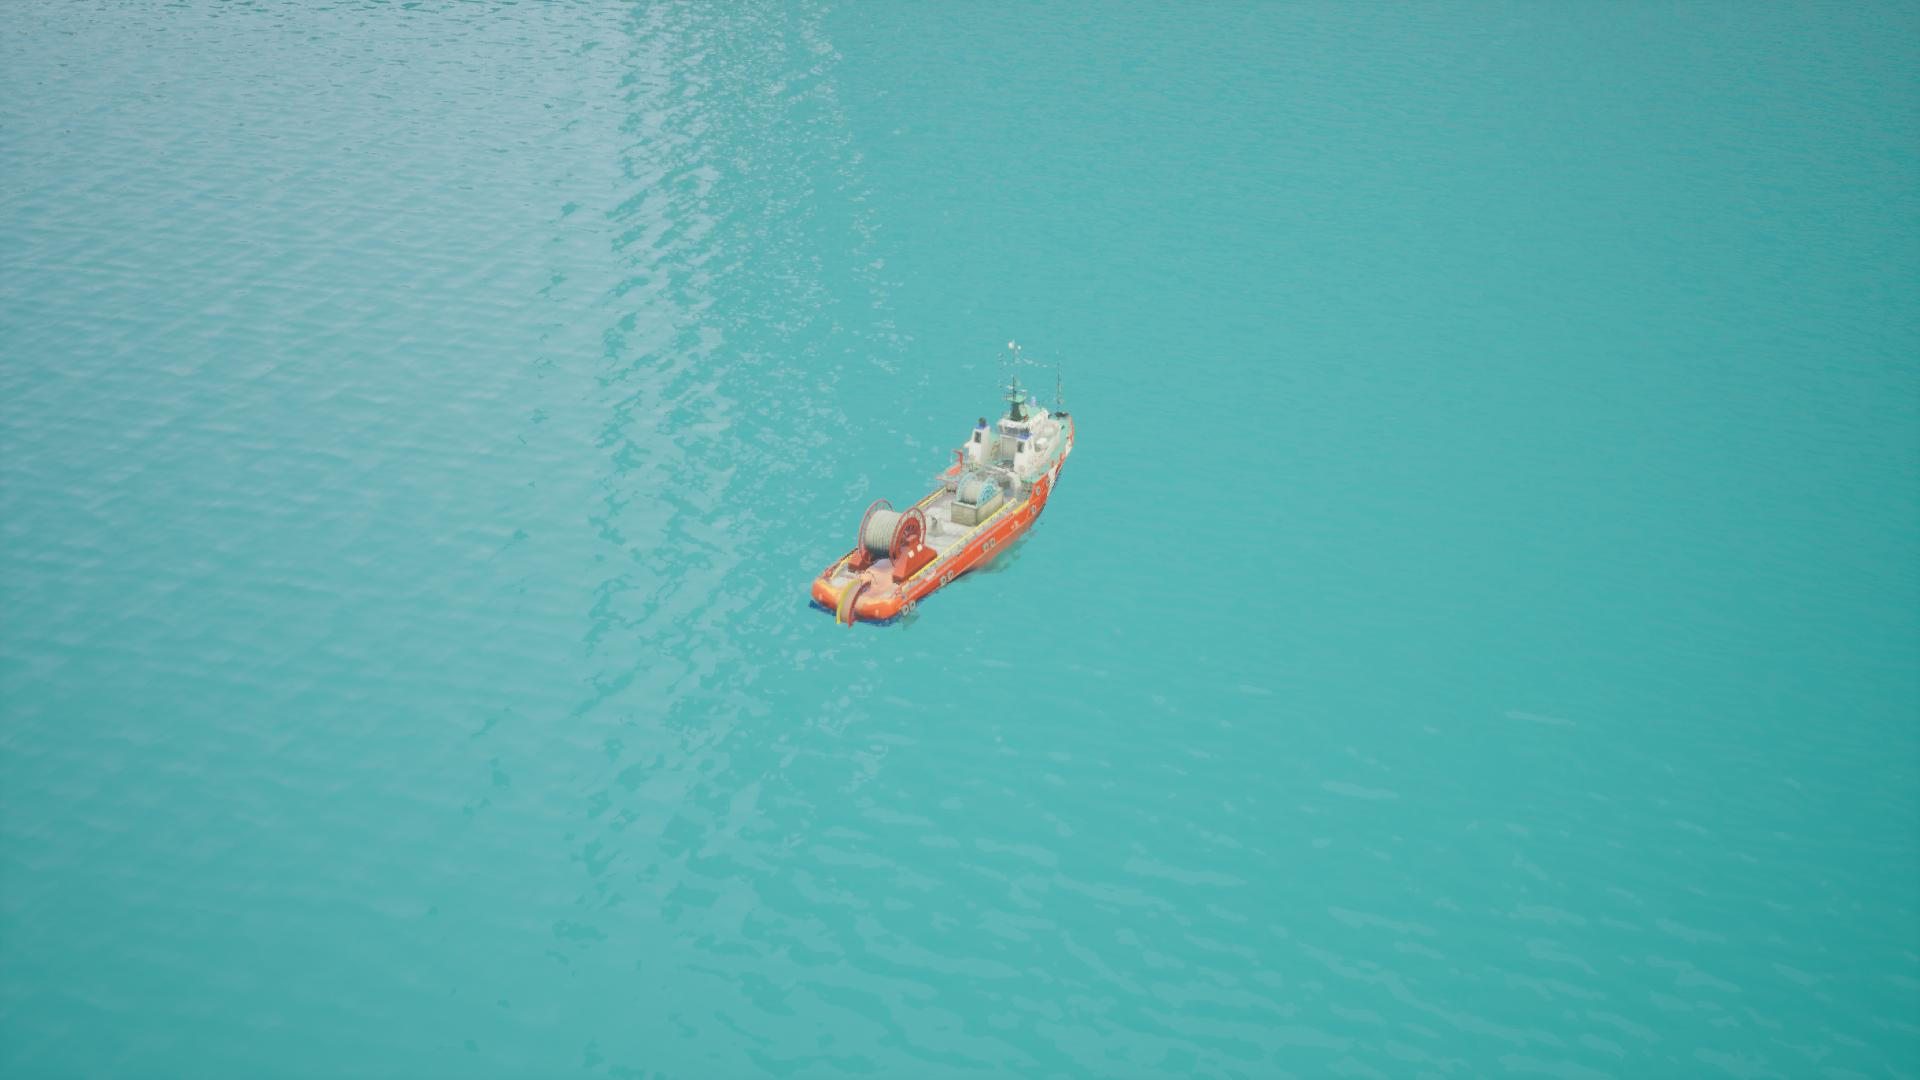Tug Boat: (878, 376, 1071, 621)
